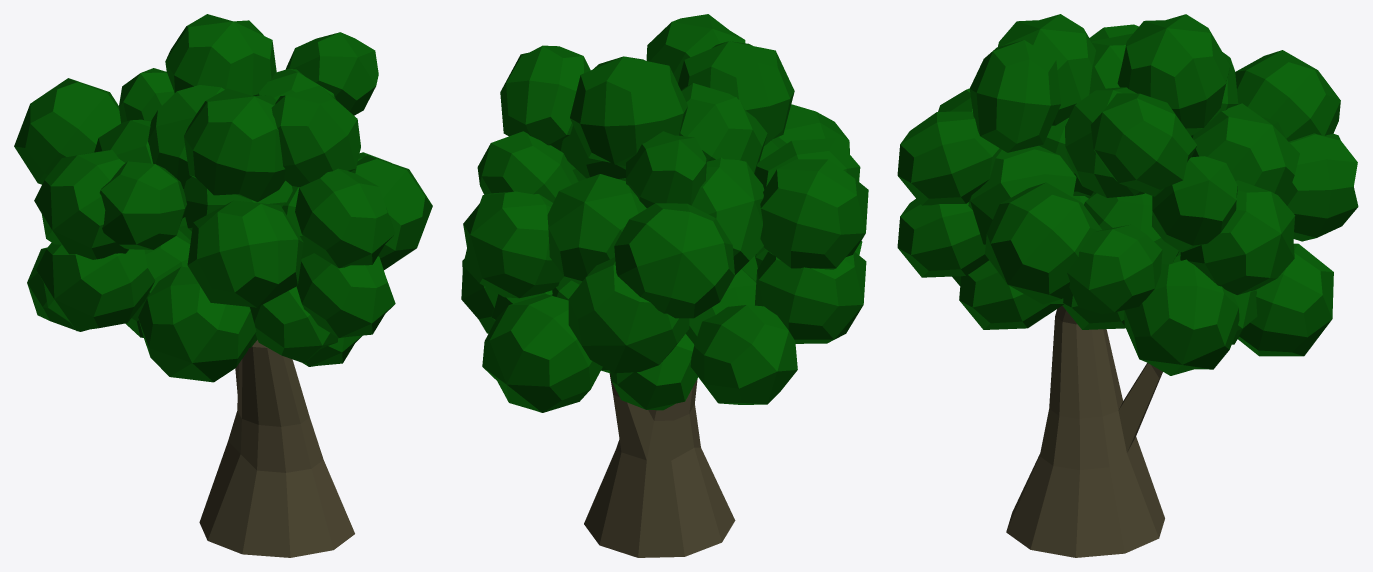
The model's file is tree.fbx.
3 views of the same model, side by side, from view 1: azimuth 30°, elevation 25°; view 2: azimuth 150°, elevation 25°; view 3: azimuth 270°, elevation 25° (orthographic). The views are drawn at different scales.
Parts seen in each view (by area): view 1: pCylinder2; view 2: pCylinder2; view 3: pCylinder2.
Boxes of the visible parts, box(x1,y1,x2,y2) form: pCylinder2: box(14, 14, 432, 557); pCylinder2: box(461, 14, 868, 557); pCylinder2: box(897, 14, 1358, 557).
Bounding box in the file's own units: 6.03 × 7.9 × 6.64.
